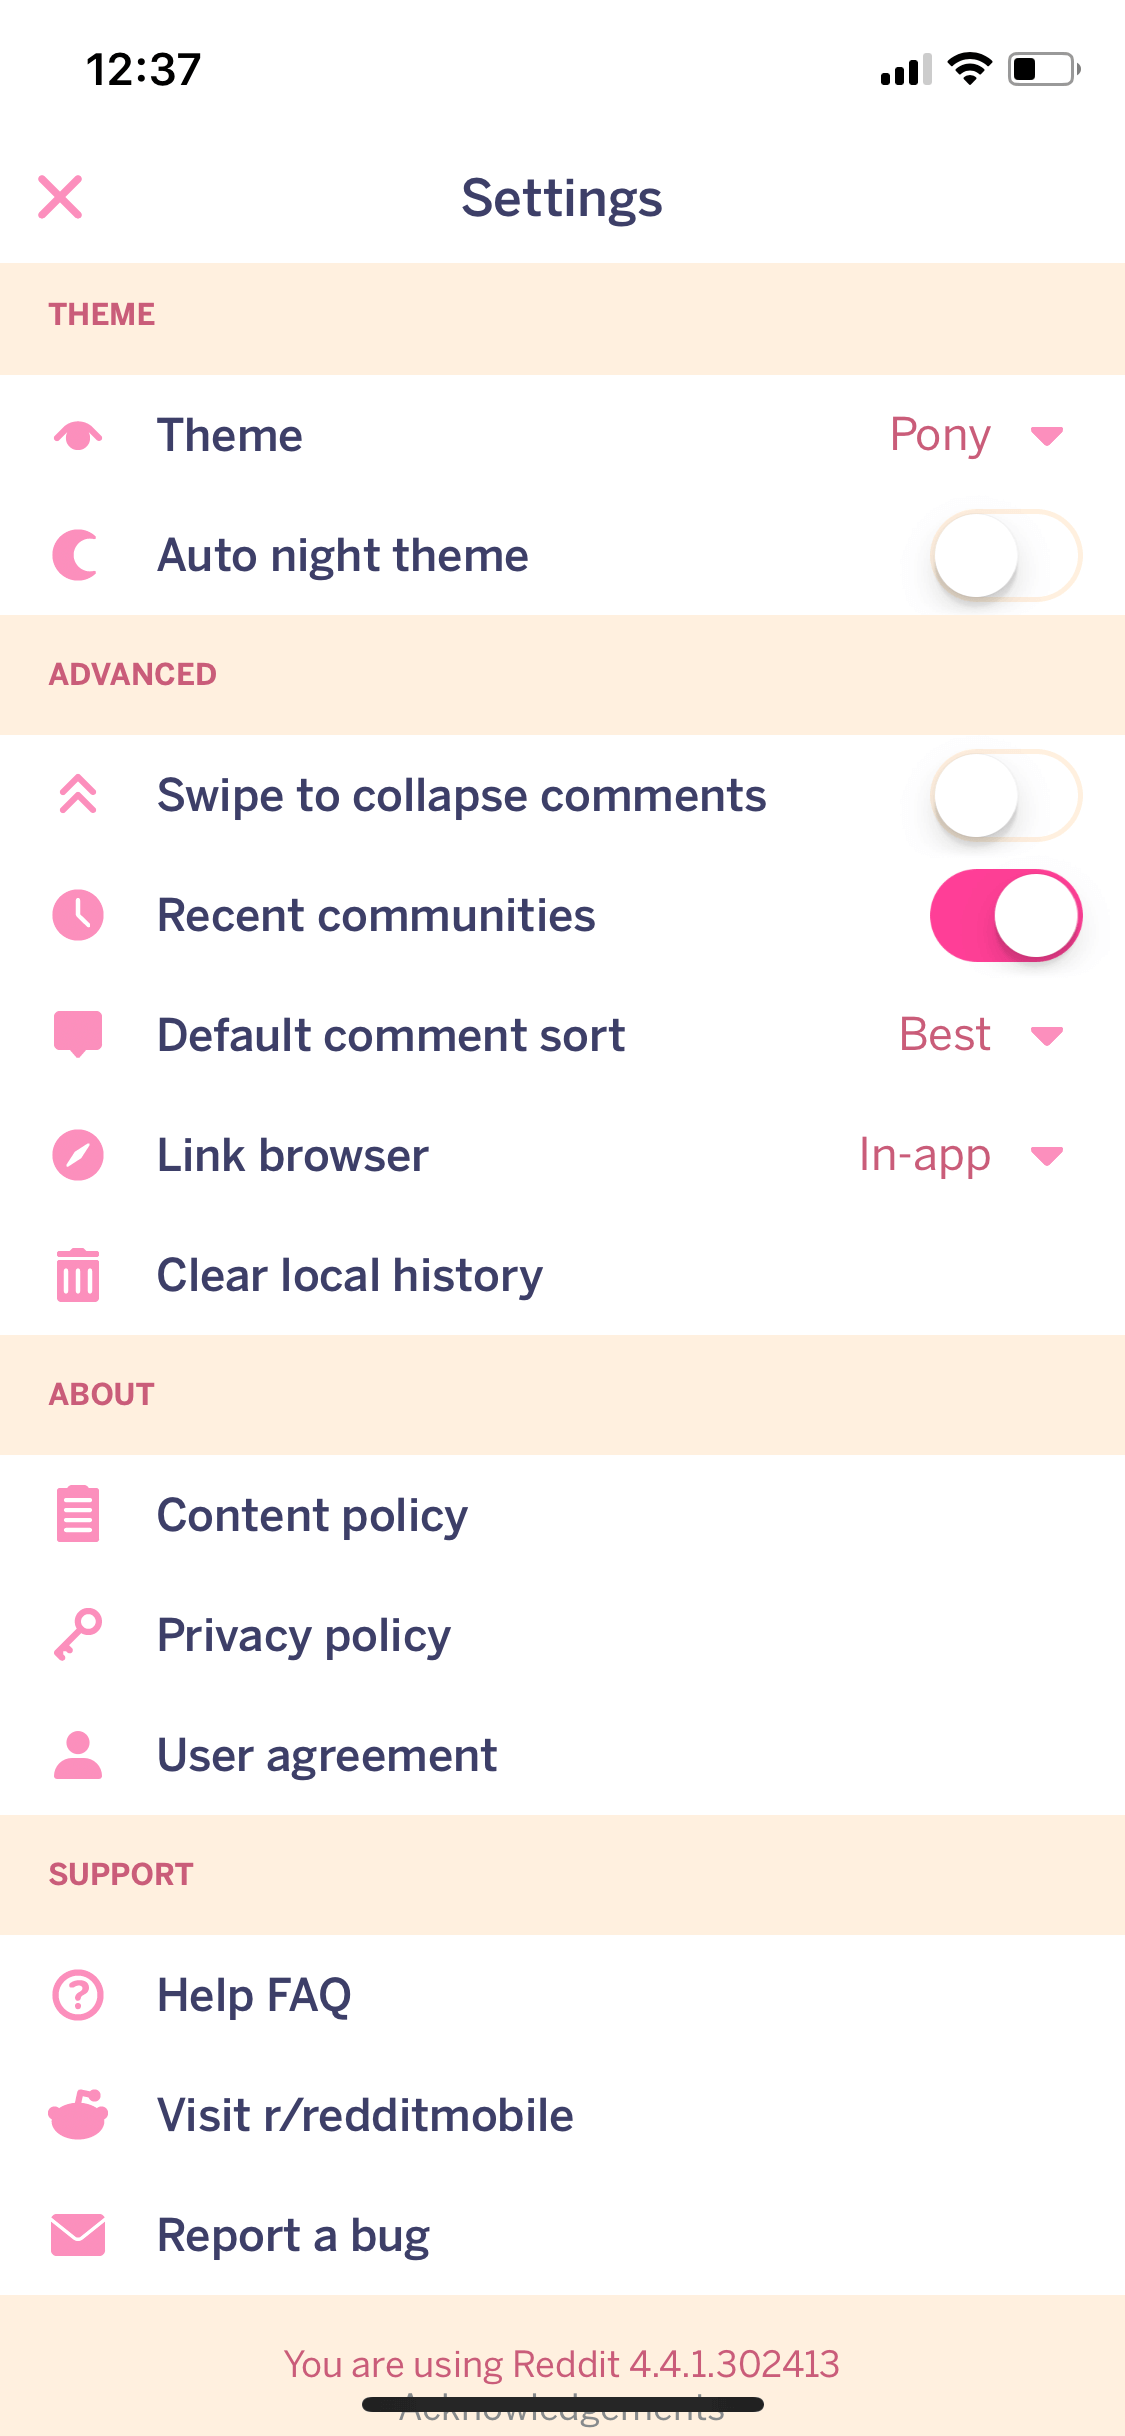Buttons: (2, 138, 112, 249)
Switches: (915, 496, 1088, 614), (914, 867, 1092, 973), (921, 749, 1095, 856)
